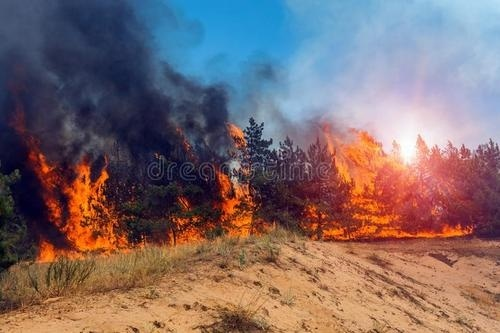fire: (307, 125, 479, 241), (25, 136, 140, 262), (167, 125, 268, 241)
